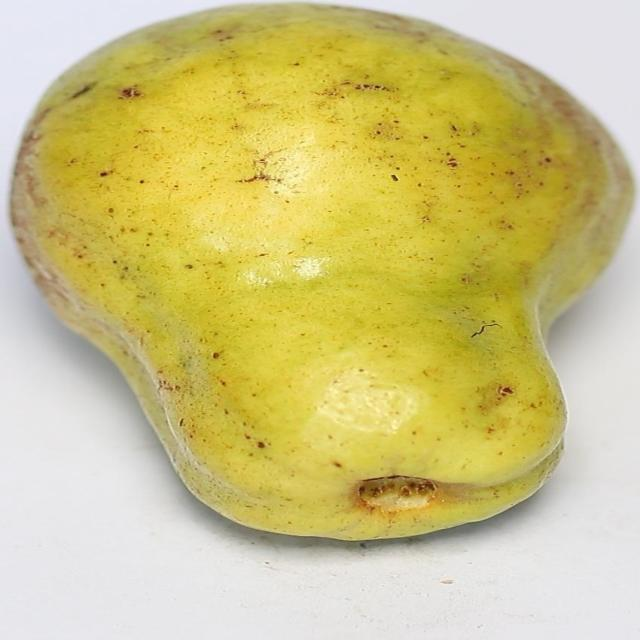Good_Guava: (8, 1, 635, 546)
